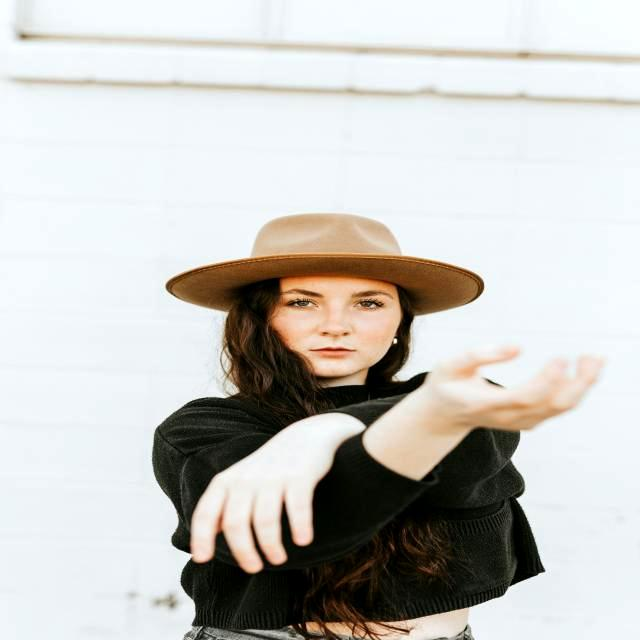no_hard_hat: (166, 214, 484, 315)
person: (152, 214, 544, 640)
